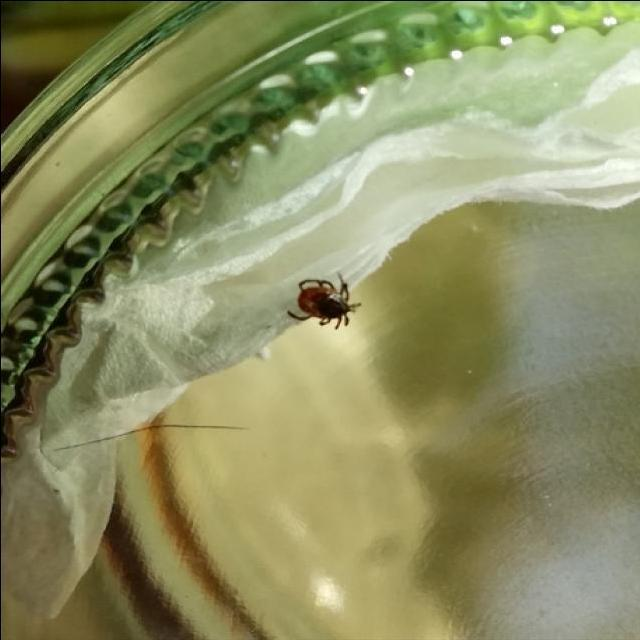Ixodes Ricinus-F: (294, 273, 359, 326)
